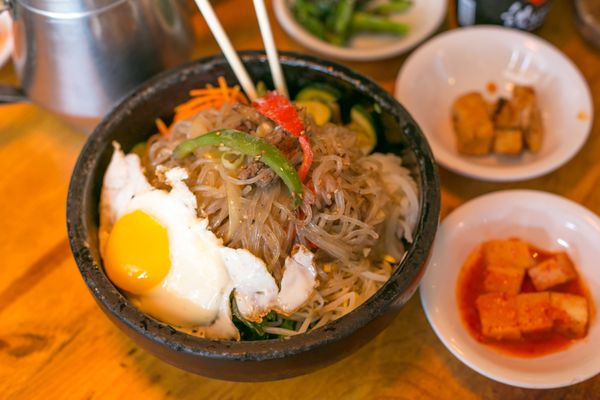pizza: (10, 0, 203, 124)
sushi: (60, 46, 442, 374), (418, 188, 600, 388), (393, 23, 595, 181), (272, 0, 450, 62)
